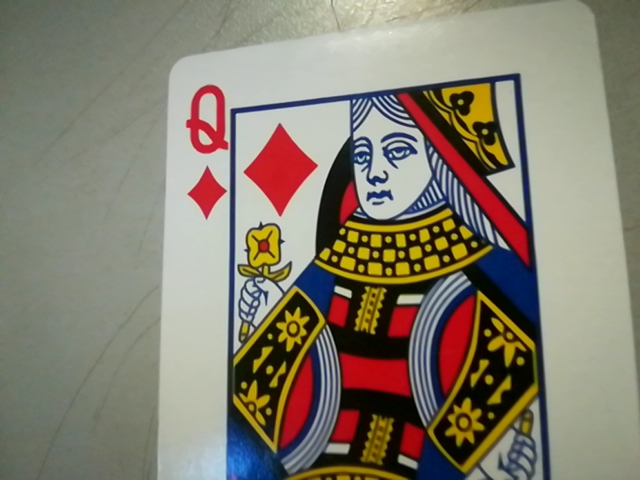fk q: (172, 79, 234, 219)
